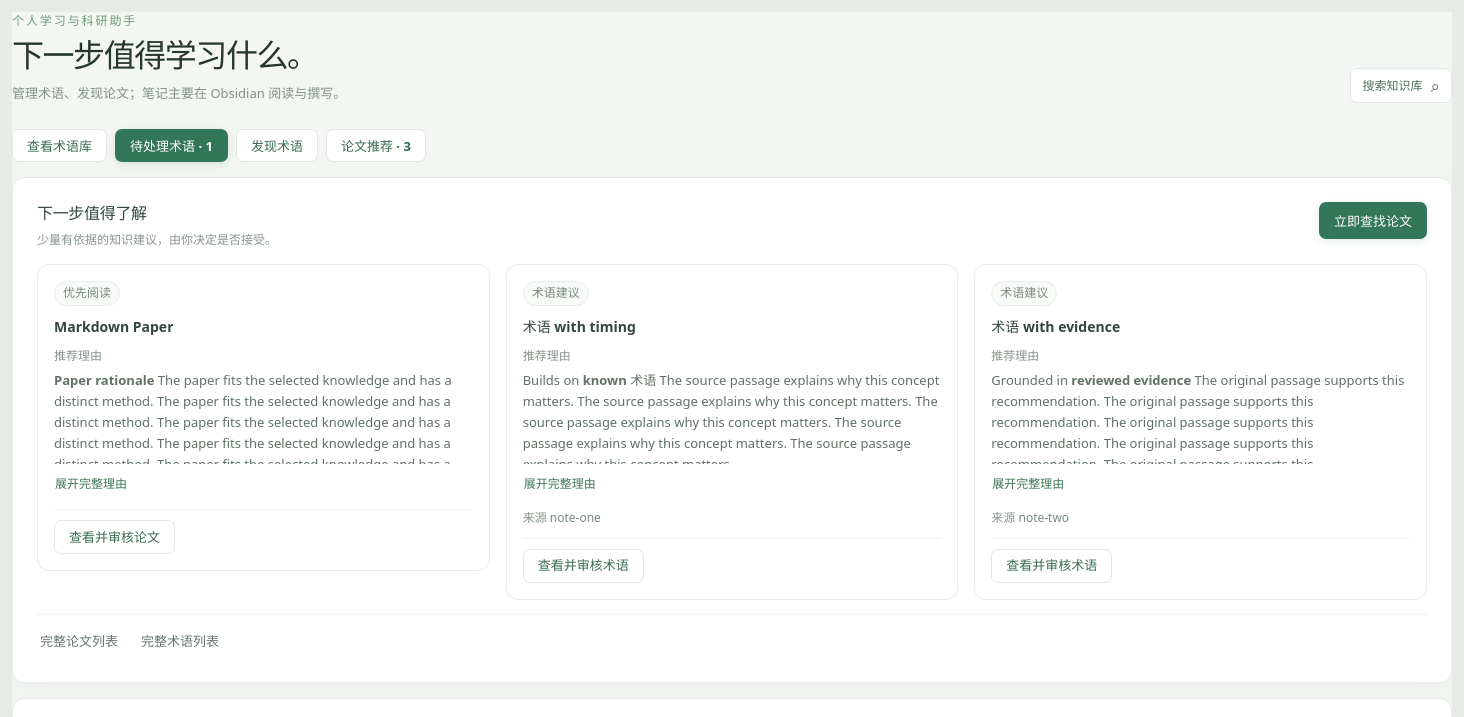
Scenario: Knowledge Dashboard › expands and collapses long Markdown rationales in one rendered view
Expected: the number of elements with class "home-recommendation-reason-summary" is 3, [54,370,473,464]; [523,370,941,464]; [991,370,1410,464]
Expected: the text "Paper rationale" is shown, [54,371,154,389]
Click the button "展开完整理由" below "Paper rationale": (91, 484) [54,469,128,499]
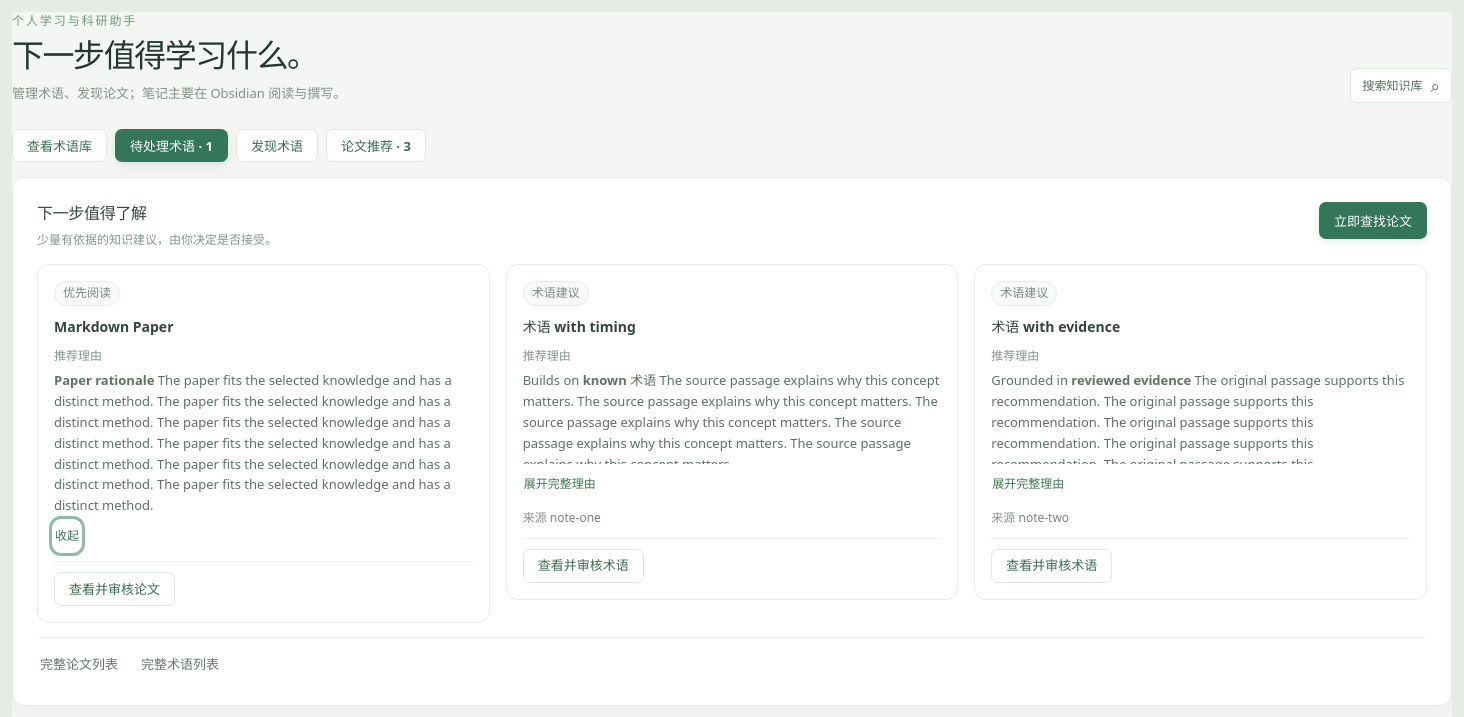
Expected: the text "Paper rationale" is shown, [54,371,154,389]
Expected: the button "收起" is expanded
Click the button "收起": (67, 536) [54,521,80,551]
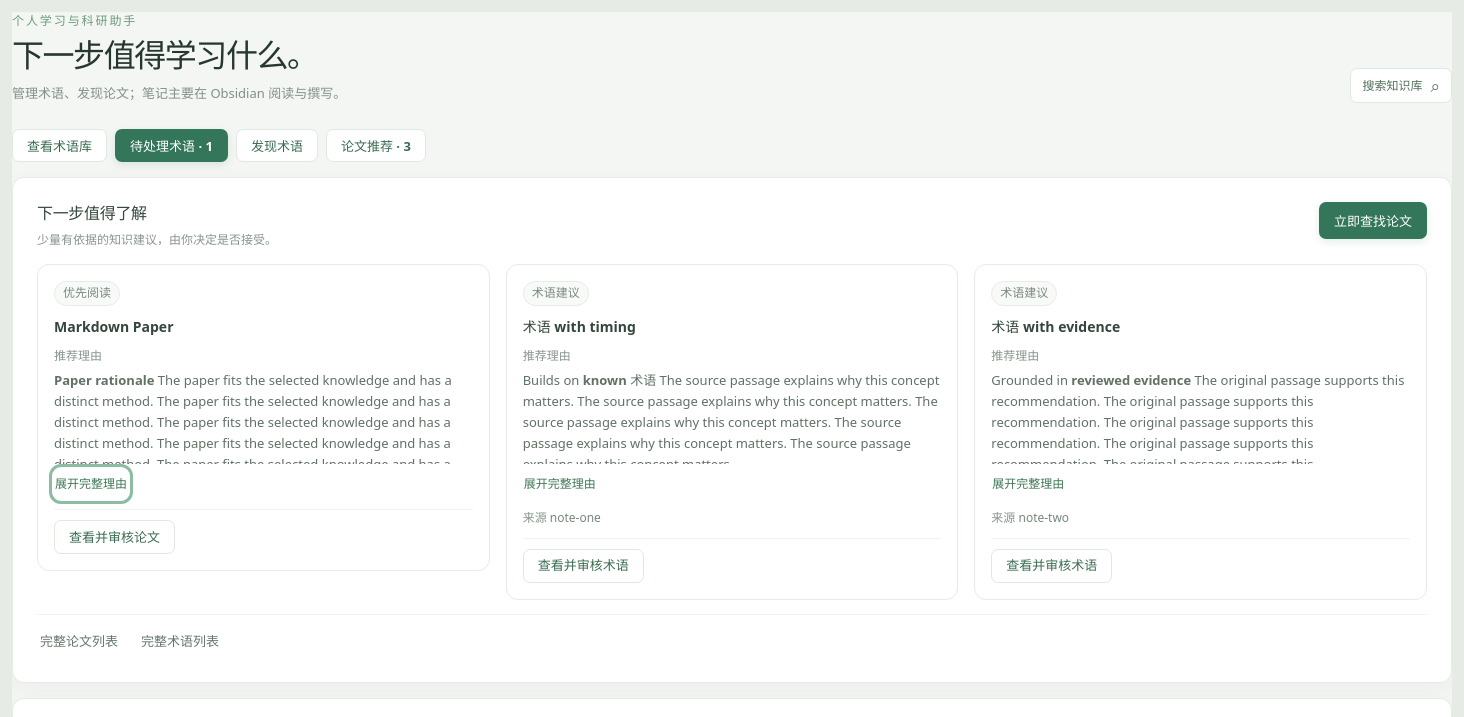
Expected: the button "展开完整理由" below "Paper rationale" is collapsed, [54,469,128,499]
